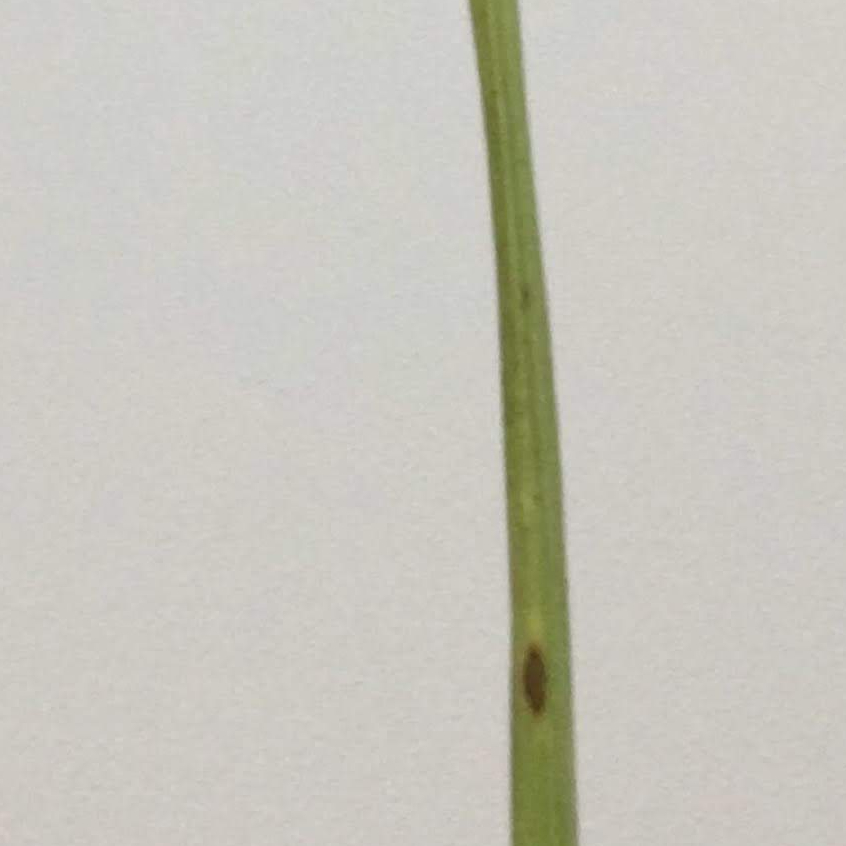leaf blast: (465, 1, 582, 846)
